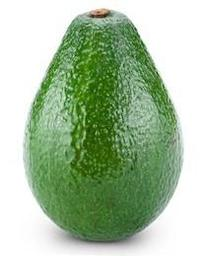avocado: (23, 7, 185, 245)
